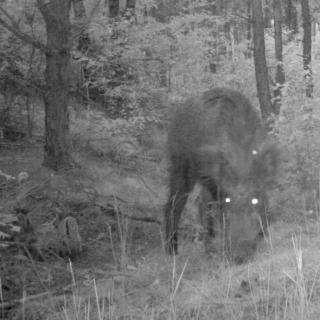Pig: (152, 60, 283, 279)
